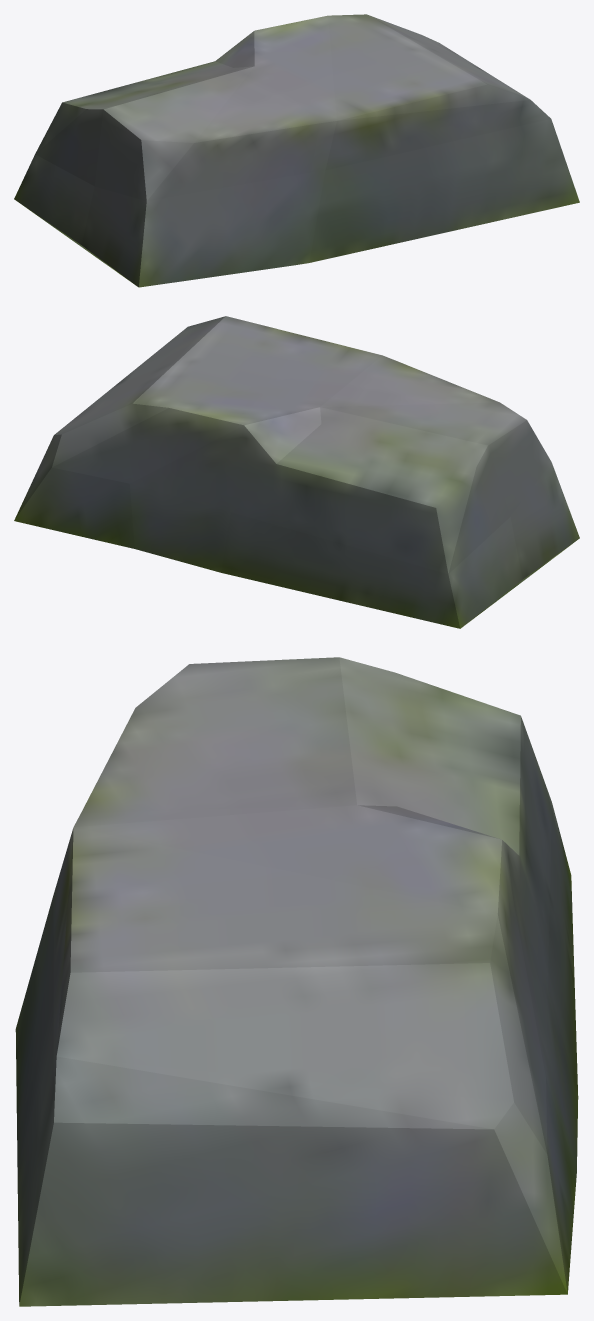
File: sn_pebble_square_6.glb
The picture shows the model from 3 angles, top to bottom: view 1: azimuth 30°, elevation 25°; view 2: azimuth 150°, elevation 25°; view 3: azimuth 270°, elevation 25°; orthographic projection. The views are drawn at different scales.
Visible parts, largest first — view 1: Pebble_Square_6; view 2: Pebble_Square_6; view 3: Pebble_Square_6.
Part boxes in pixels (x1,y1,x2,y2): Pebble_Square_6: (14,14,579,287); Pebble_Square_6: (14,316,579,628); Pebble_Square_6: (15,657,578,1306).
Size of the model in its own units: 0.462 by 0.1378 by 0.2629.
1 material, 1 textured.
